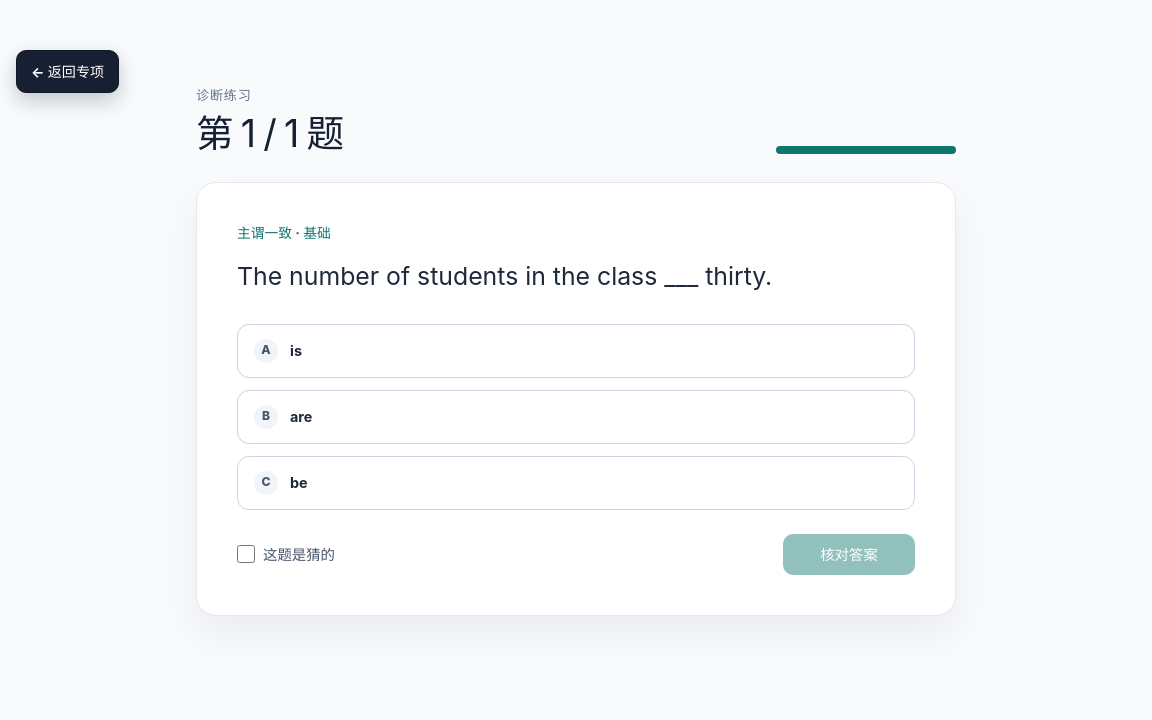
Test: PracticeSession › keeps a guessed correct answer in the review flow
This screenshot has width=1152, height=720.
Click the button "A is". click: (266, 351)
box: [237,324,915,378]
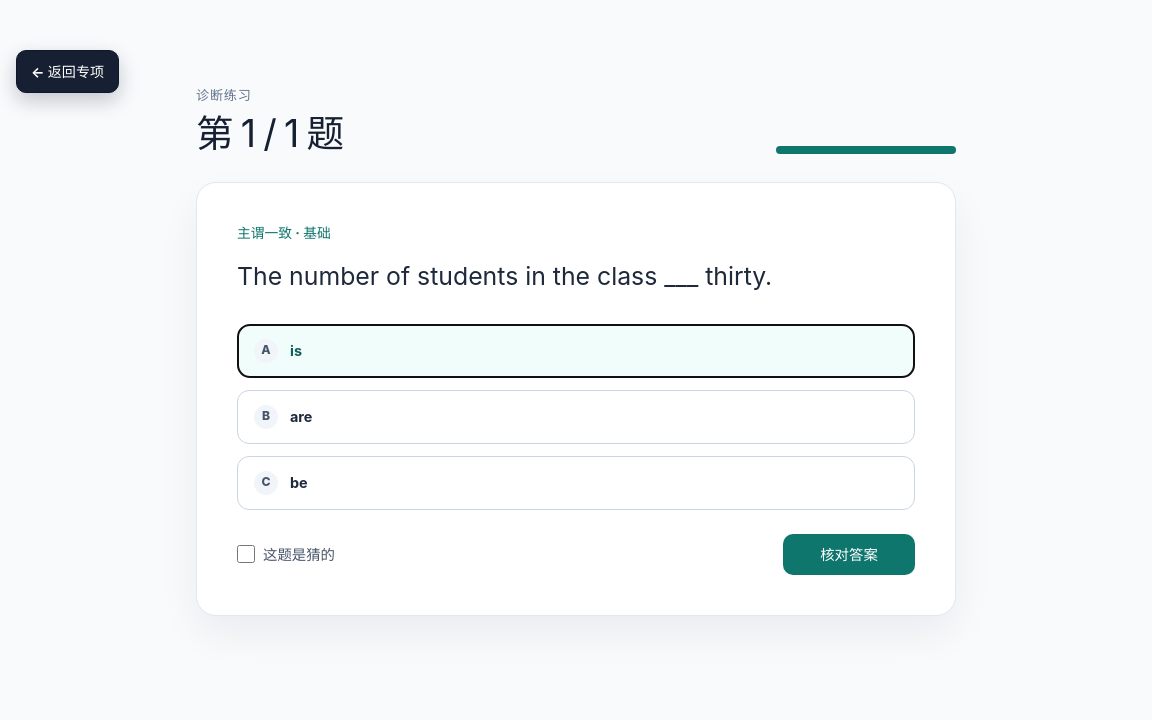
Click the checkbox labelled "这题是猜的". click: (246, 554)
box: [237,545,255,563]
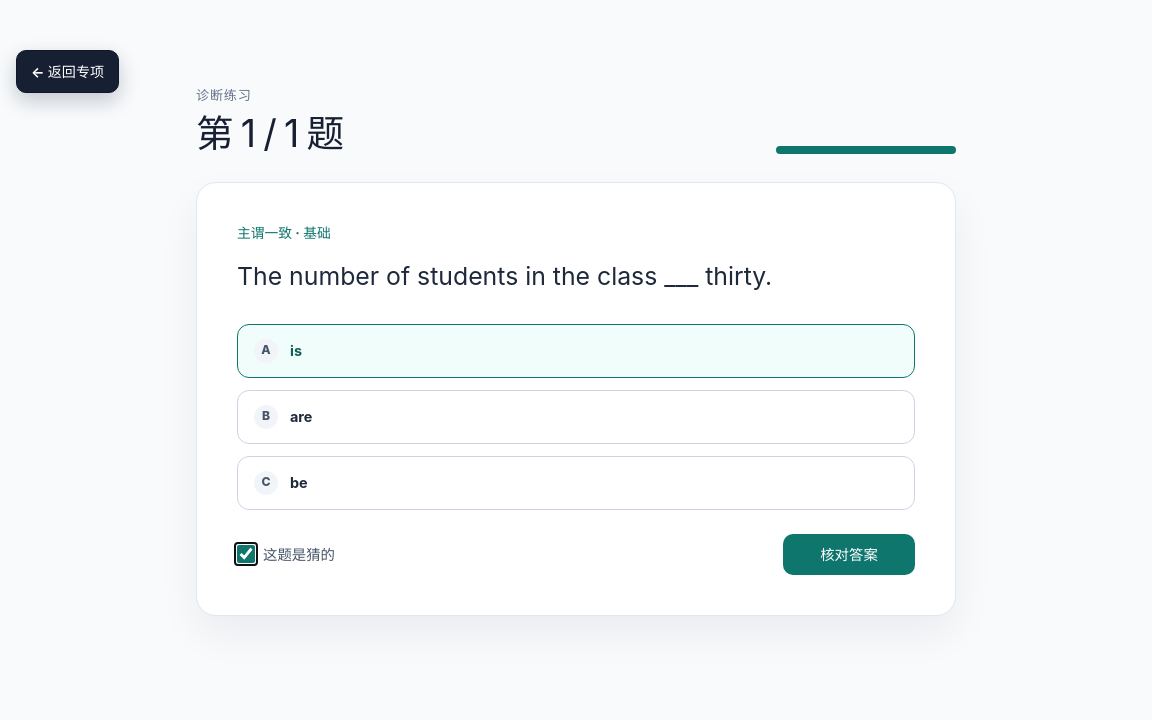
Click the button "核对答案". click: (849, 554)
box: [783,534,915,575]
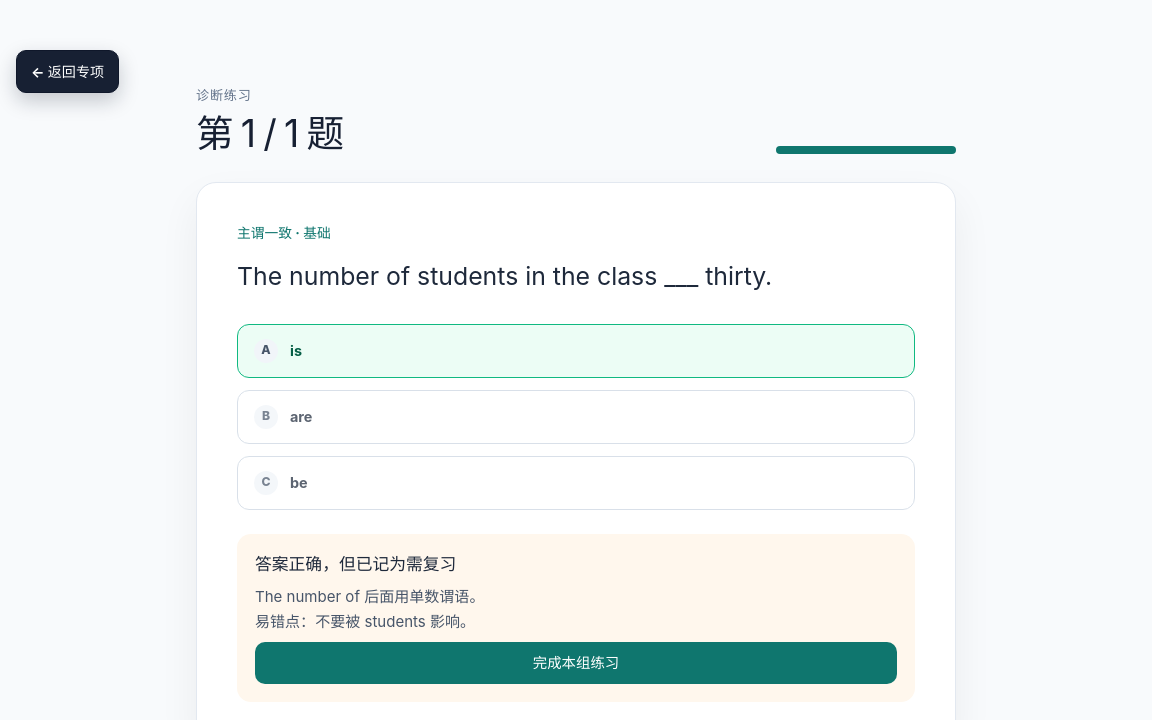
Check: the heading "答案正确，但已记为需复习" is shown, box [255,554,456,574]
